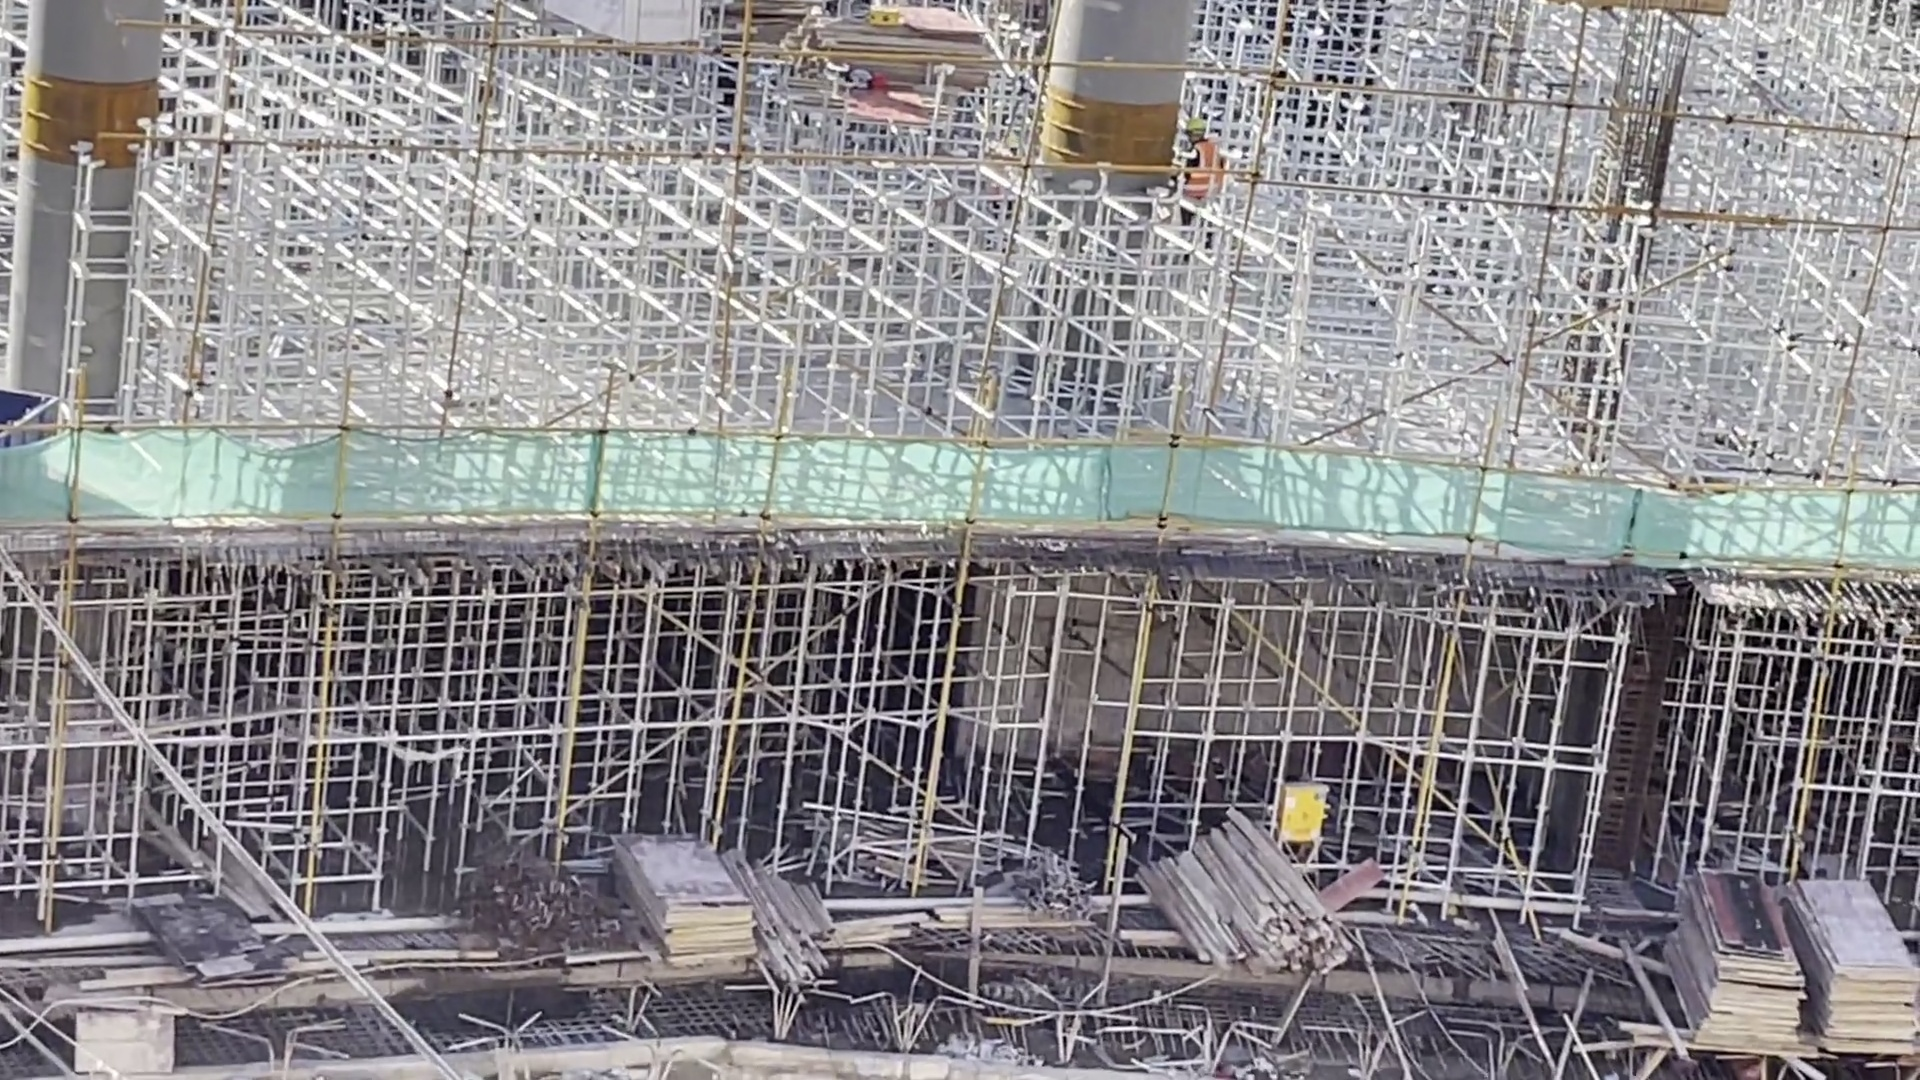board: (1664, 862, 1800, 1057), (1803, 865, 1920, 1058), (610, 829, 754, 973), (791, 1, 1000, 89)
ebox: (1274, 774, 1327, 864)
helmet: (1181, 114, 1208, 136)
hopper: (1, 382, 73, 450)
person: (1174, 120, 1220, 240)
vest: (1182, 144, 1223, 212)
wood: (1140, 812, 1345, 987)
